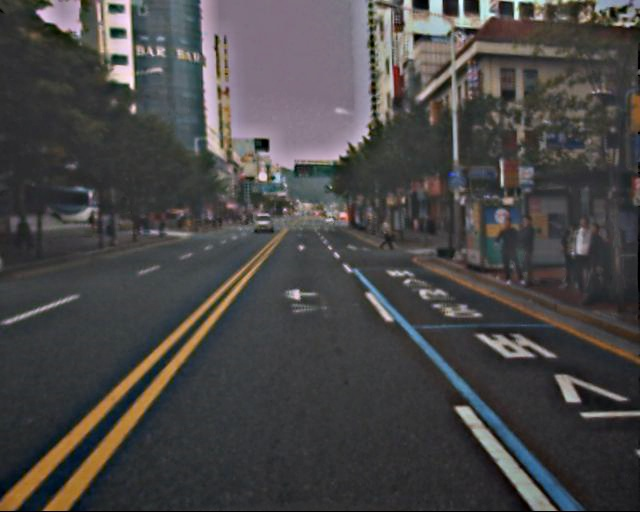person: (557, 221, 604, 297), (511, 216, 544, 292), (494, 216, 525, 287), (380, 215, 398, 252)
